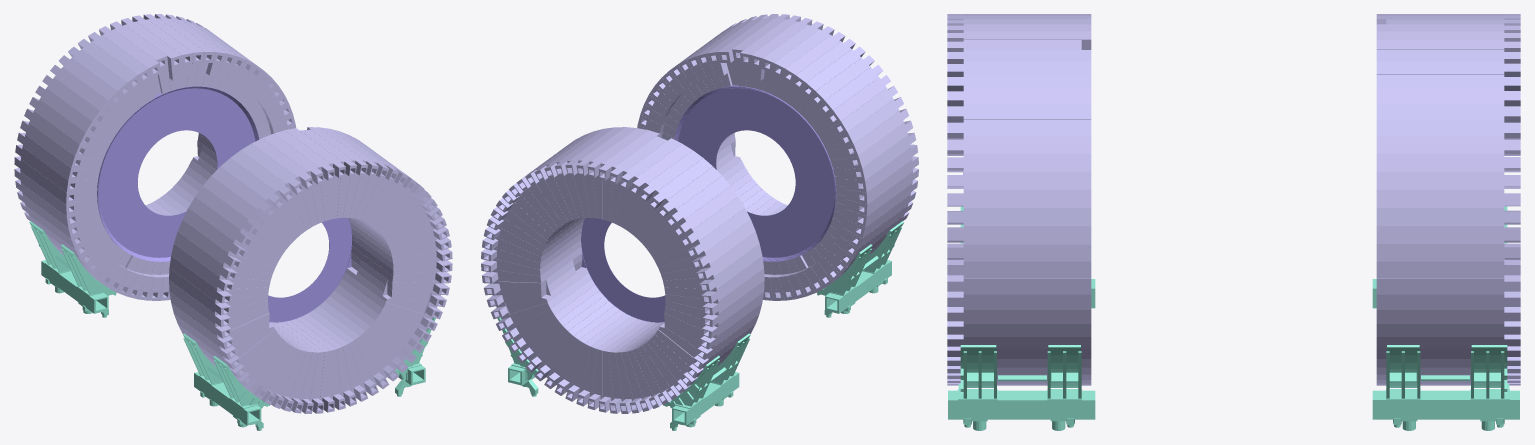
Rendered from Tile-End-Cap.gltf.
The picture shows the model from 3 angles, left to right: view 1: azimuth 30°, elevation 25°; view 2: azimuth 150°, elevation 25°; view 3: azimuth 270°, elevation 25°; orthographic projection. The views are drawn at different scales.
Visible parts, largest first — view 1: Tile-End-Cap, _0450C5D8, _044FE998; view 2: Tile-End-Cap, _0450C5D8, _044FE998; view 3: Tile-End-Cap, _044FE998.
Boxes of the visible parts, left/top/right/bottom form: Tile-End-Cap: left=14, top=14, right=452, bottom=413; _0450C5D8: left=97, top=86, right=352, bottom=322; _044FE998: left=29, top=221, right=435, bottom=430; Tile-End-Cap: left=481, top=14, right=918, bottom=413; _0450C5D8: left=581, top=85, right=836, bottom=322; _044FE998: left=497, top=221, right=903, bottom=430; Tile-End-Cap: left=947, top=14, right=1520, bottom=385; _044FE998: left=948, top=206, right=1519, bottom=430.
Size of the model in its own units: 8.47 by 8.73 by 13.05.
